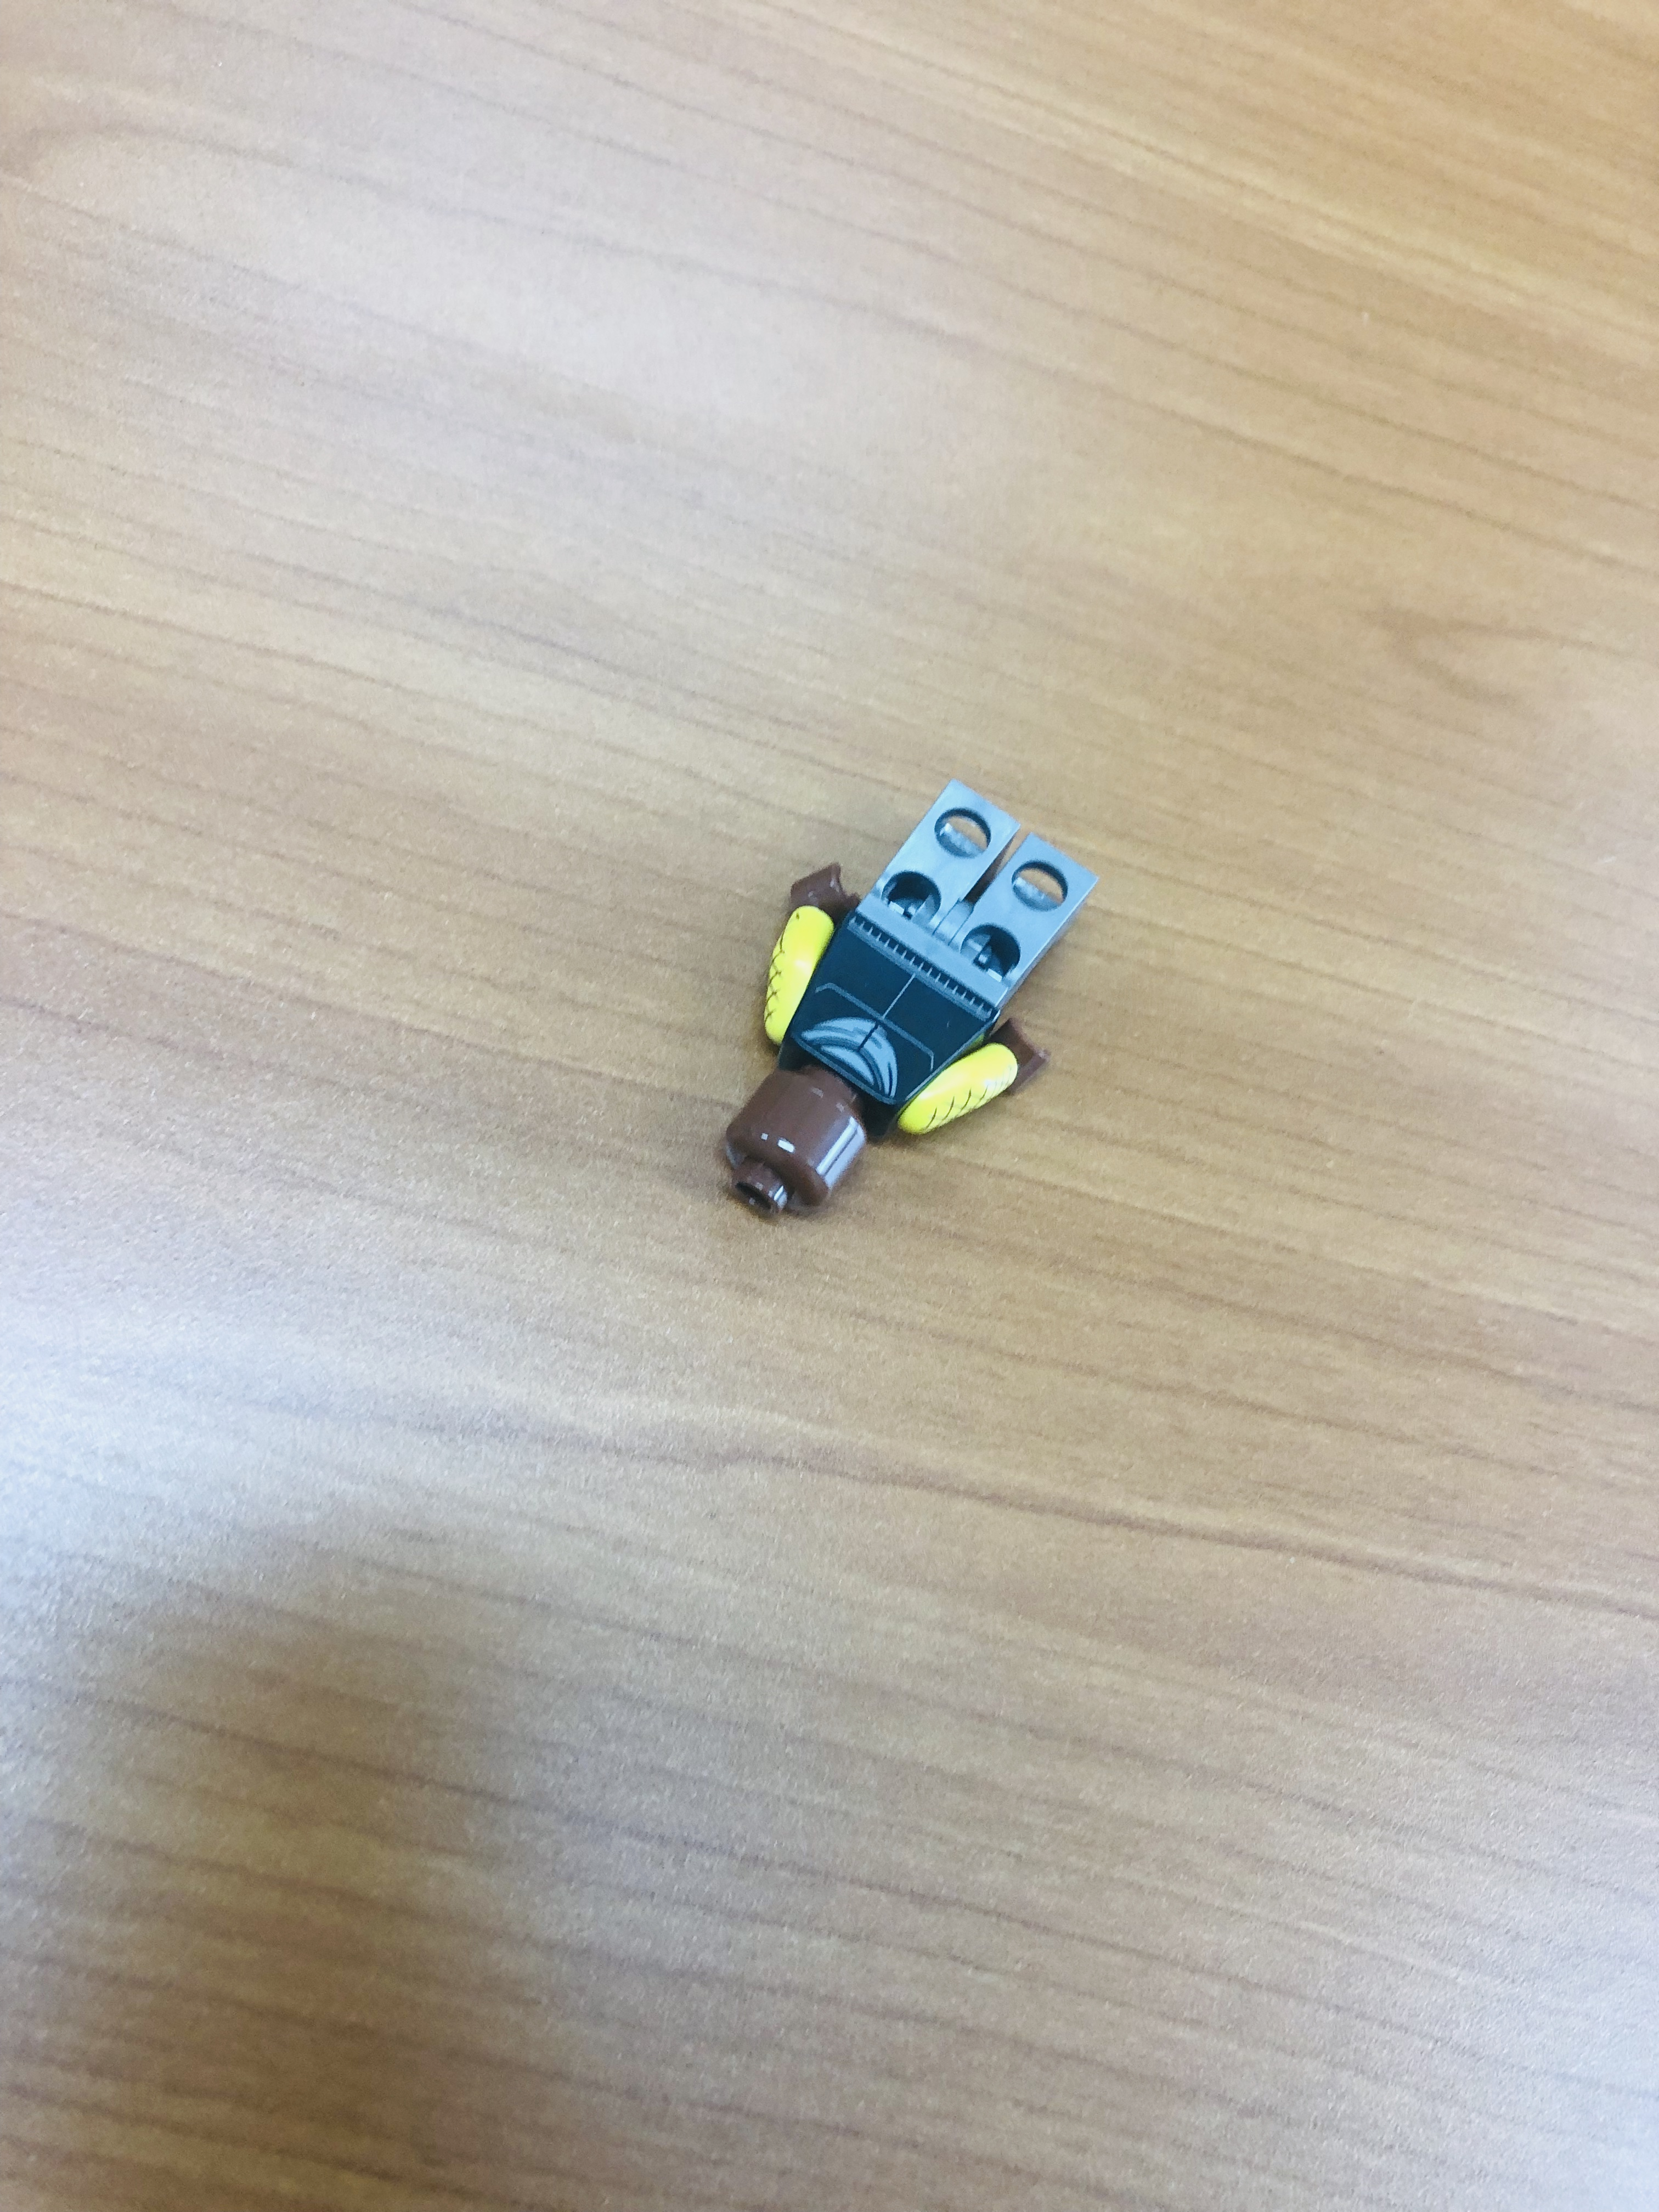people: (710, 772, 1100, 1223)
